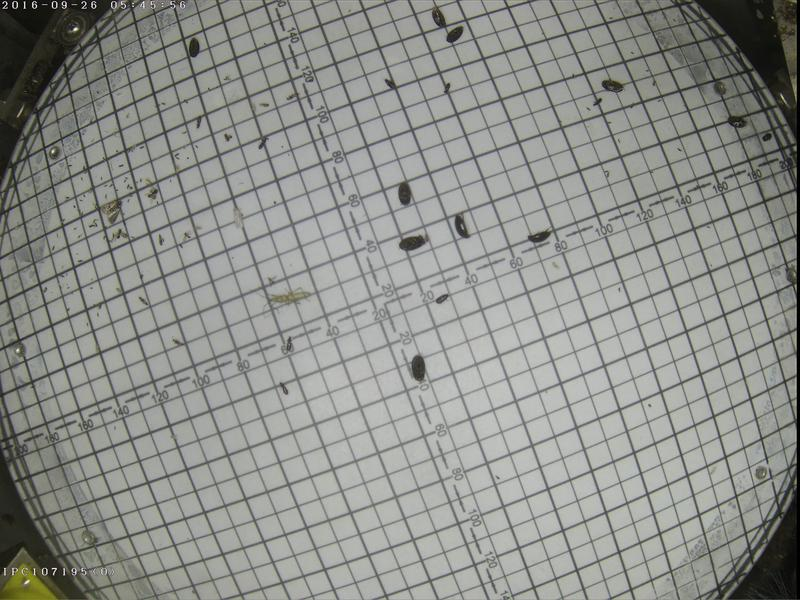Rice planthopper: (173, 163, 180, 173)
